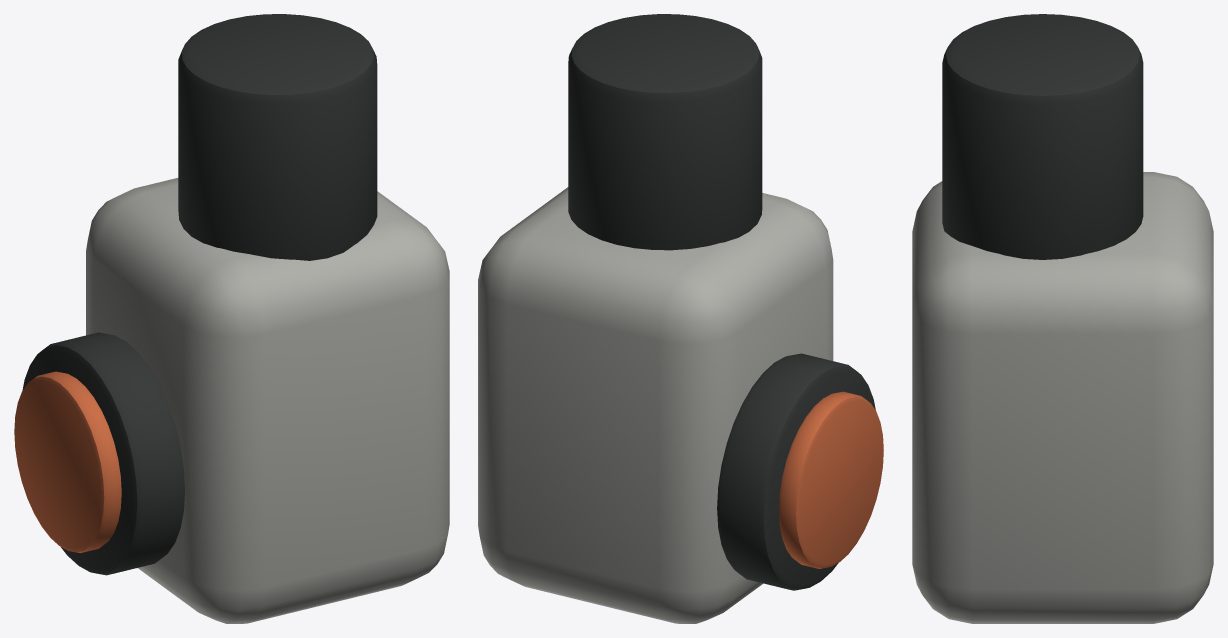
The model's file is six_axis_welding_robot_upper_arm.glb.
The picture shows the model from 3 angles, left to right: view 1: azimuth 30°, elevation 25°; view 2: azimuth 150°, elevation 25°; view 3: azimuth 270°, elevation 25°; orthographic projection. The views are drawn at different scales.
Parts seen in each view (by area): view 1: six_axis_welding_robot_upper_arm; view 2: six_axis_welding_robot_upper_arm; view 3: six_axis_welding_robot_upper_arm.
Part boxes in pixels (left/top/right/bottom): six_axis_welding_robot_upper_arm: left=14, top=14, right=449, bottom=623; six_axis_welding_robot_upper_arm: left=478, top=14, right=883, bottom=623; six_axis_welding_robot_upper_arm: left=912, top=14, right=1213, bottom=623.
Size of the model in its own units: 0.191 by 0.29 by 0.15.
